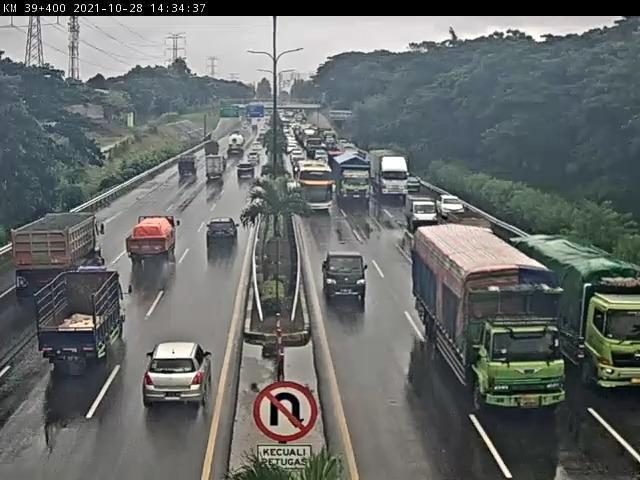bus: (294, 162, 334, 214)
car: (144, 344, 215, 411), (322, 251, 369, 299), (408, 195, 438, 232), (206, 220, 241, 250), (440, 193, 467, 222), (237, 165, 258, 186), (245, 153, 262, 170)
truck: (411, 226, 568, 417), (513, 232, 640, 379), (36, 267, 131, 368), (15, 213, 107, 297), (126, 215, 185, 268), (333, 154, 374, 206), (373, 151, 414, 201), (206, 156, 228, 183), (179, 156, 199, 183), (203, 140, 224, 162)
